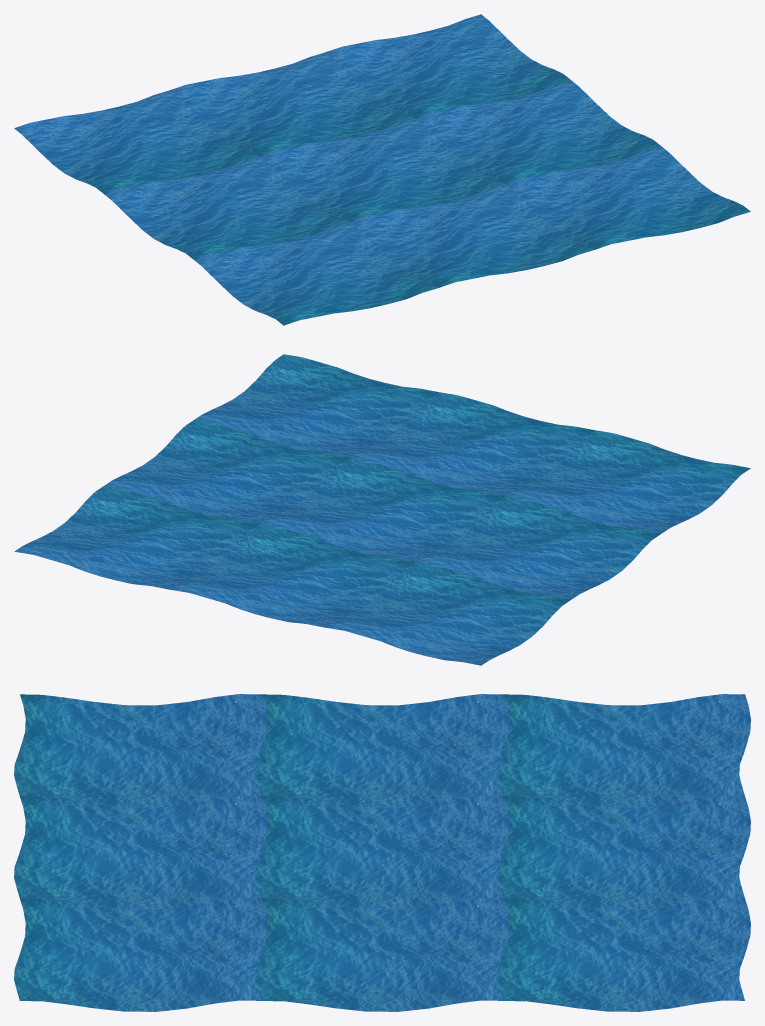
Rendered from ocean_000268.obj.
3 views of the same model, one above another, from view 1: azimuth 30°, elevation 25°; view 2: azimuth 150°, elevation 25°; view 3: azimuth 270°, elevation 25° (orthographic). The views are drawn at different scales.
Parts seen in each view (by area): view 1: Ocean_Plan.001; view 2: Ocean_Plan.001; view 3: Ocean_Plan.001.
Boxes of the visible parts, box(x1,y1,x2,y2) form: Ocean_Plan.001: box(14, 14, 750, 325); Ocean_Plan.001: box(14, 354, 750, 665); Ocean_Plan.001: box(14, 694, 750, 1011).
Size of the model in its own units: 109260 by 2484 by 110727.
1 material, 1 textured.
